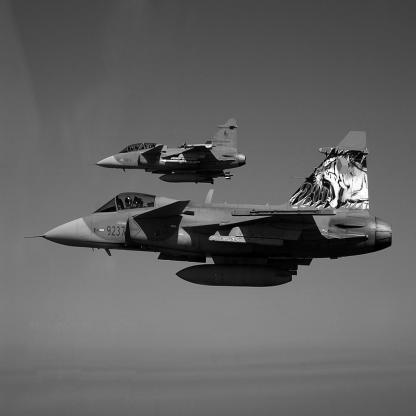JAS39: (25, 132, 393, 288), (89, 119, 247, 186)
